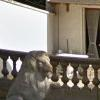Statue: (7, 43, 52, 100)
